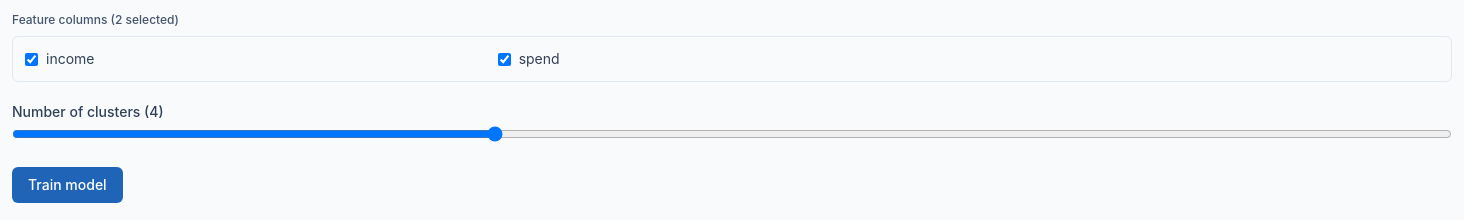
it: SegmentationConfigForm › disables submit when fewer than 2 feature columns are selected
This screenshot has width=1464, height=220.
Click the checkbox labelled "spend" at (504, 59), box top-left (498, 52), bottom-right (511, 66)
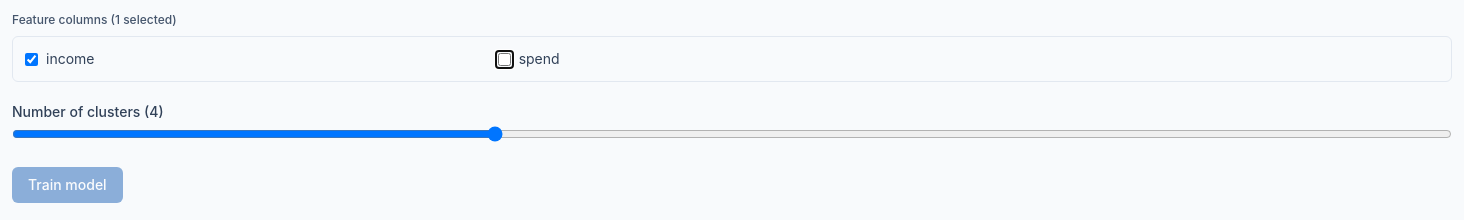
Expected: the button "Train model" is disabled, top-left (12, 167), bottom-right (123, 203)
